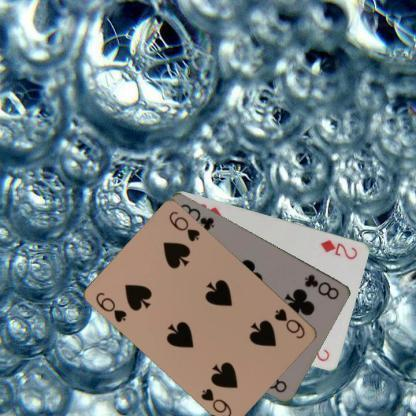2d: (318, 236, 360, 261)
6s: (93, 290, 129, 324), (272, 306, 306, 340)
8c: (301, 270, 341, 301)
